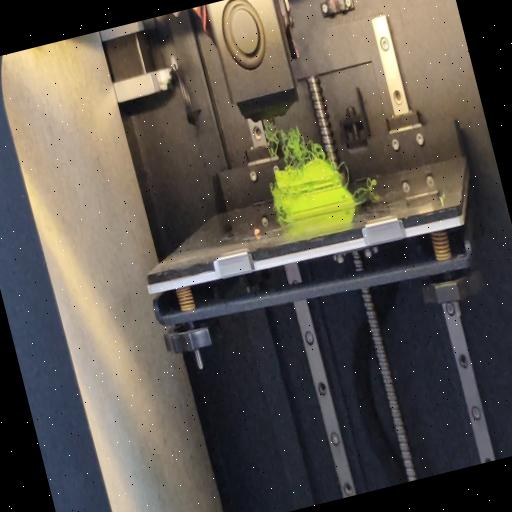spaghetti: (258, 110, 328, 176), (350, 175, 382, 197), (336, 155, 354, 187), (274, 214, 288, 226)
